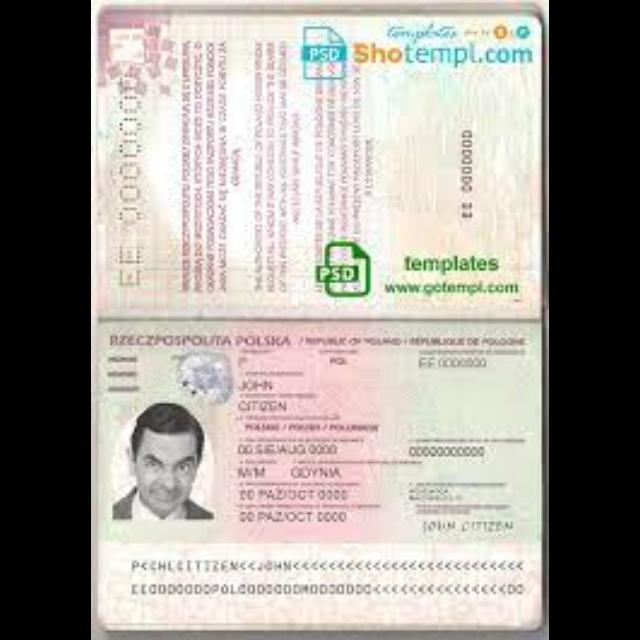passport: (94, 314, 550, 640)
